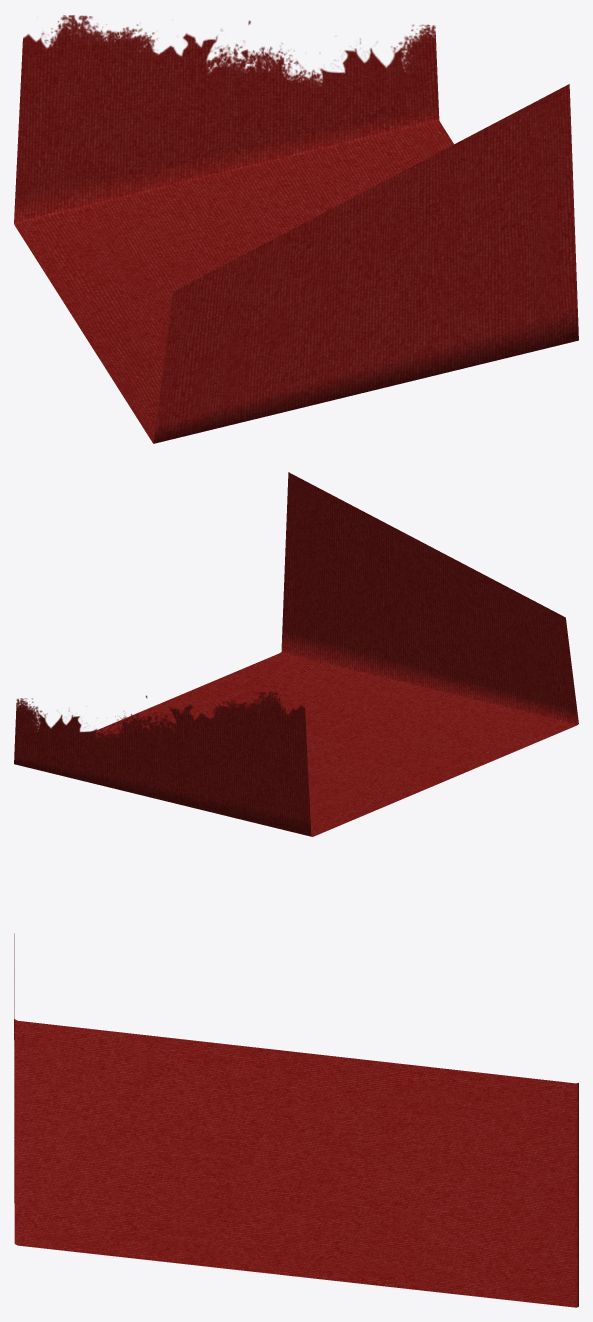
File: clotha.glb
The picture shows the model from 3 angles, top to bottom: view 1: azimuth 30°, elevation 25°; view 2: azimuth 150°, elevation 25°; view 3: azimuth 270°, elevation 25°; orthographic projection. The views are drawn at different scales.
Parts seen in each view (by area): view 1: Cloth; view 2: Cloth; view 3: Cloth.
Part boxes in pixels (left/top/right/bottom): Cloth: left=14, top=15, right=578, bottom=443; Cloth: left=14, top=472, right=578, bottom=836; Cloth: left=14, top=933, right=578, bottom=1307.
Size of the model in its own units: 8.37 by 3.81 by 6.93.
Materials: 1 (1 with a texture image).
